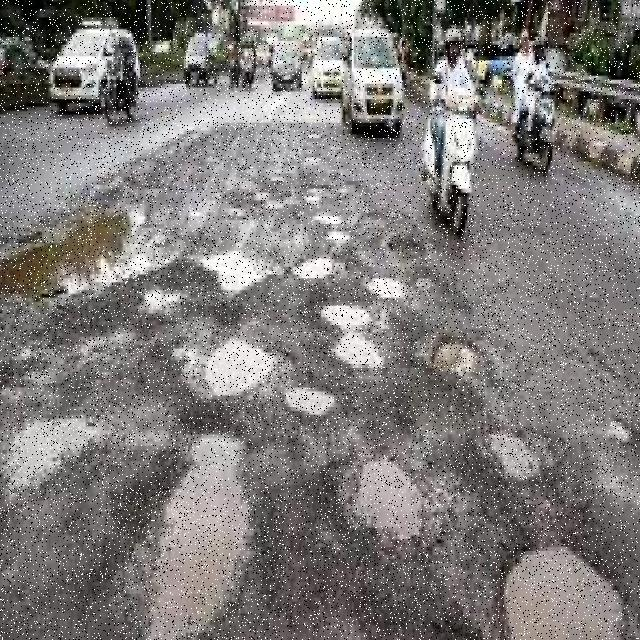pothole: (138, 431, 252, 640), (0, 211, 144, 300), (503, 547, 629, 640), (348, 441, 433, 542), (0, 421, 96, 506), (428, 341, 497, 416), (205, 336, 283, 399), (194, 250, 273, 303), (323, 306, 384, 372), (0, 347, 72, 400), (489, 428, 539, 481), (388, 240, 430, 283), (107, 173, 165, 201), (280, 386, 334, 413), (141, 289, 183, 318), (298, 252, 339, 279), (371, 277, 407, 300), (612, 421, 632, 444), (324, 228, 351, 245), (302, 191, 322, 204), (308, 128, 329, 140), (299, 157, 319, 169), (256, 187, 269, 203)
